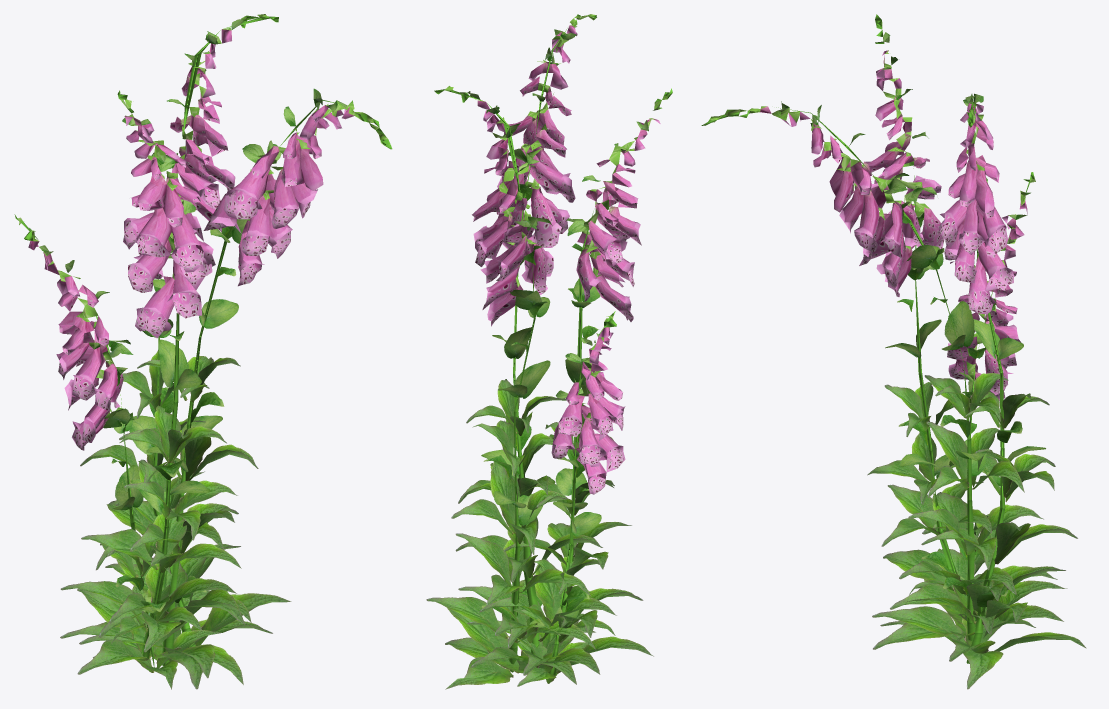
3 renders of one model, left to right at view 1: azimuth 30°, elevation 25°; view 2: azimuth 150°, elevation 25°; view 3: azimuth 270°, elevation 25°, orthographic. The views are drawn at different scales.
Parts seen in each view (by area): view 1: 9b19bdfd; view 2: 9b19bdfd; view 3: 9b19bdfd.
Boxes of the visible parts, x1,y1,x2,y2 form: 9b19bdfd: (14,14,392,689); 9b19bdfd: (426,14,672,689); 9b19bdfd: (701,14,1086,689).
Bounding box in the file's own units: 0.0741 × 0.1889 × 0.1127.
1 material, 1 textured.
